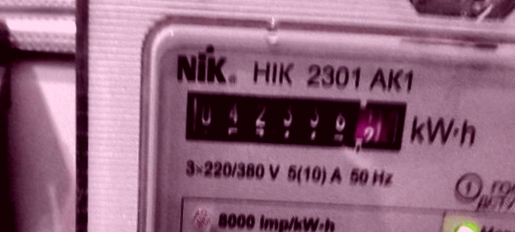0: (200, 98, 213, 127)
2: (252, 99, 270, 126)
3: (279, 99, 295, 128), (308, 99, 322, 128)
4: (226, 99, 242, 126)
6: (333, 105, 348, 132)
screen: (174, 78, 416, 163)
